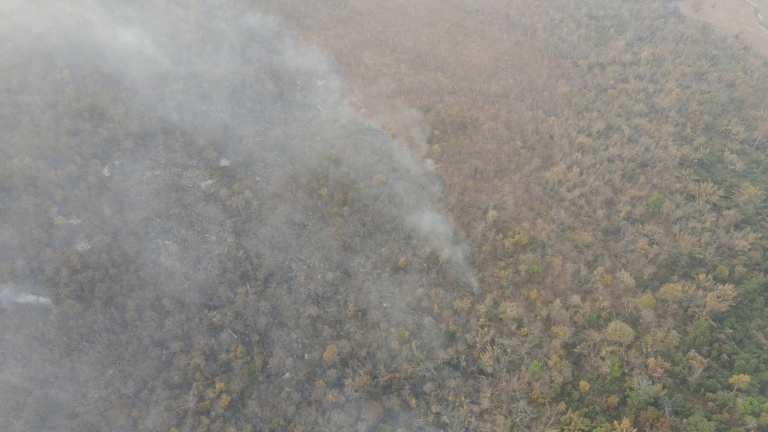smoke: (1, 1, 486, 429)
